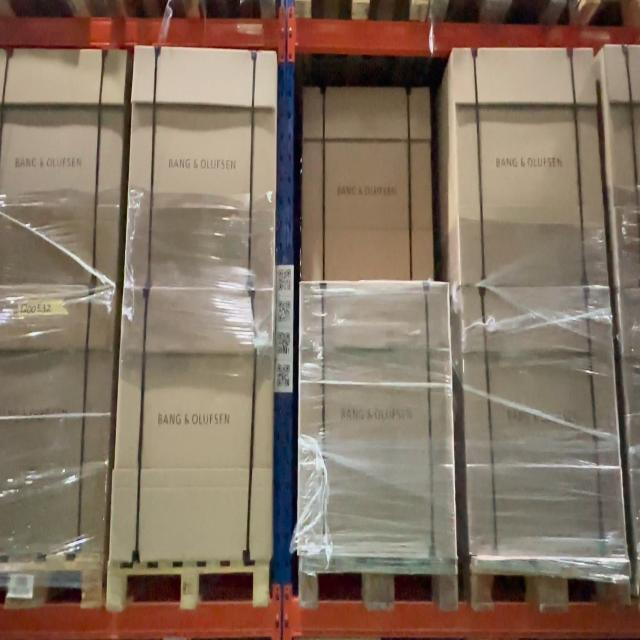box: (108, 288, 276, 565), (462, 285, 629, 558), (300, 281, 454, 564), (450, 44, 607, 288), (125, 47, 276, 290)
